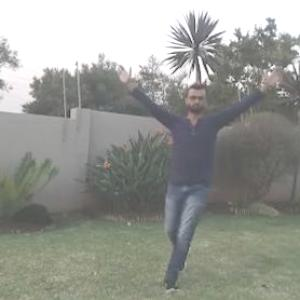takeoff: (115, 67, 285, 283)
